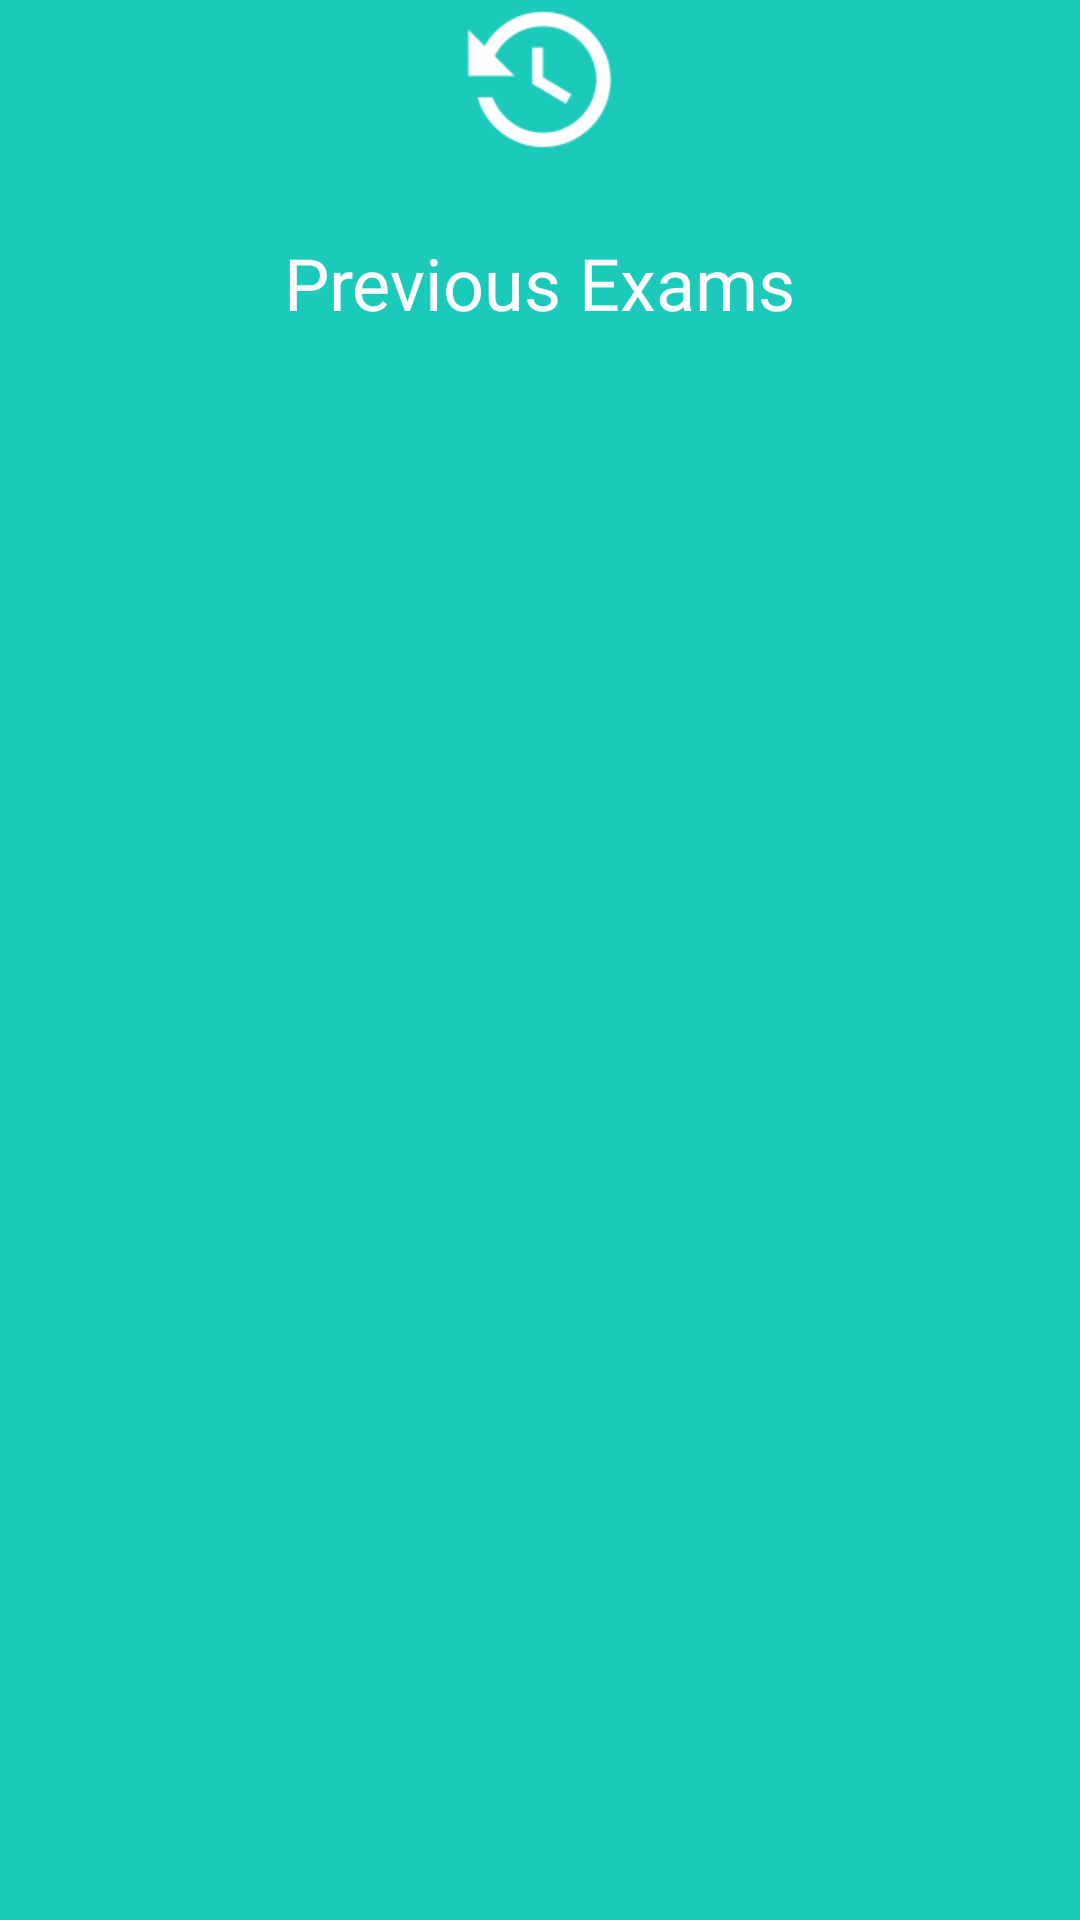

Icon click points for this 1080×1920 phone screenshot, format (x=x, y=y):
teacher previousexam: (x=539, y=79)
